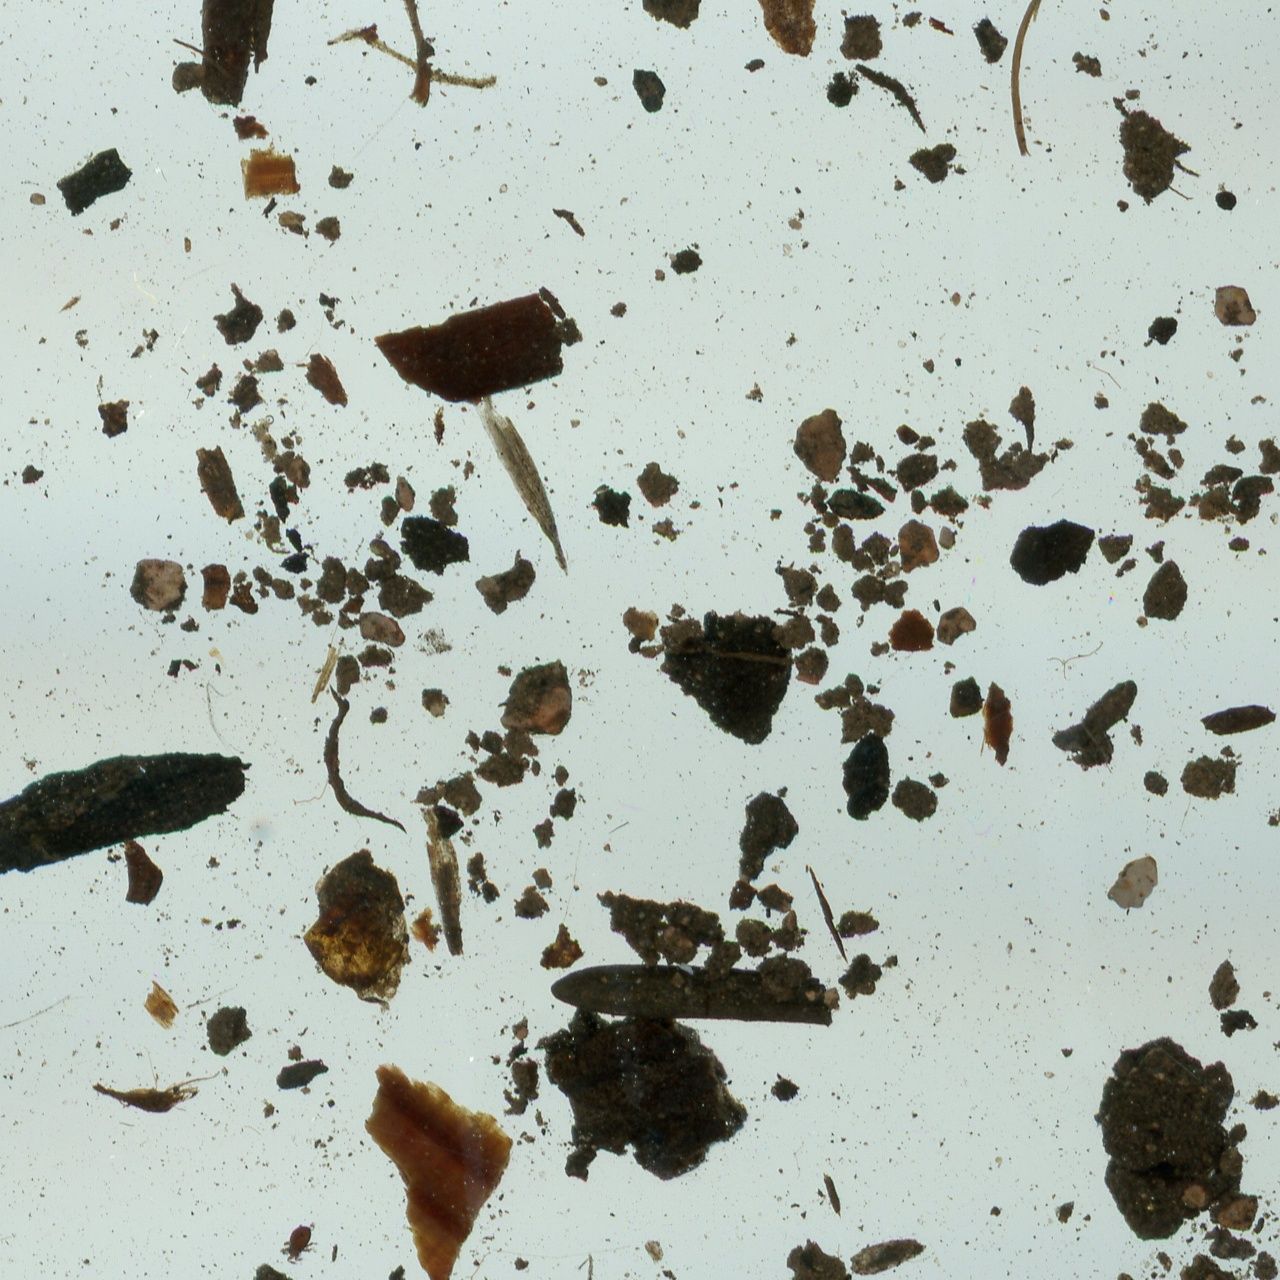arthropod: (279, 1224, 316, 1267)
